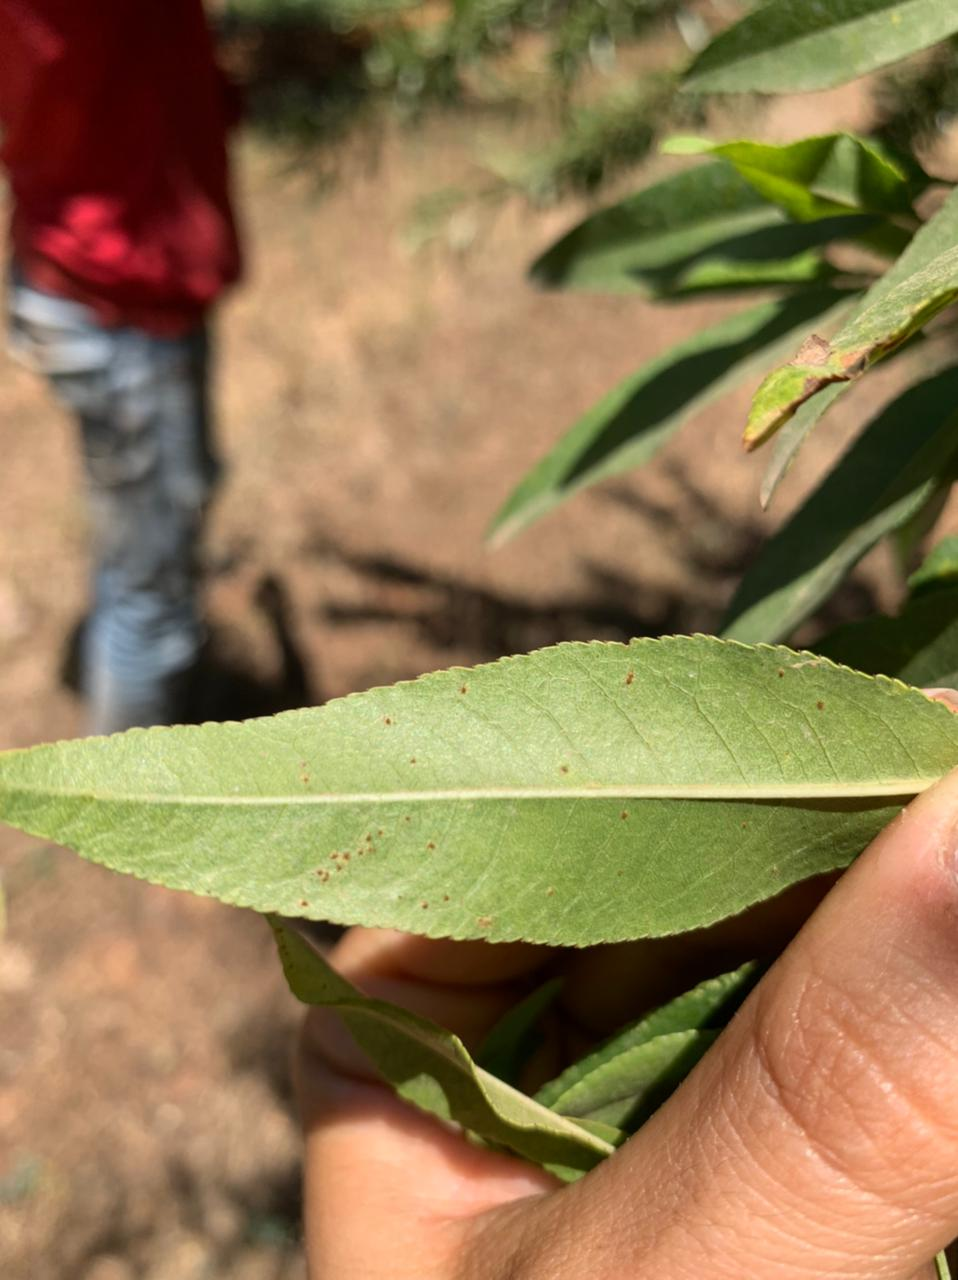rouille: (1, 634, 952, 948)
